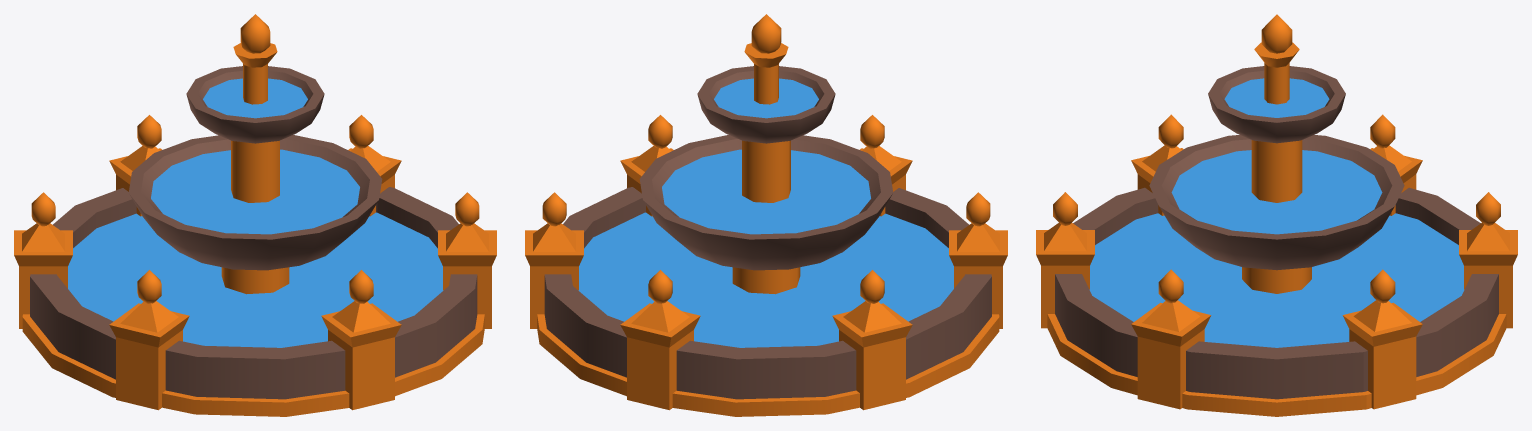
File: fountain_001.fbx
3 views of the same model, side by side, from view 1: azimuth 30°, elevation 25°; view 2: azimuth 150°, elevation 25°; view 3: azimuth 270°, elevation 25° (orthographic).
Visible parts, largest first — view 1: fountain_001; view 2: fountain_001; view 3: fountain_001.
Boxes of the visible parts, bbox=[...] form: fountain_001: bbox=[14, 14, 496, 416]; fountain_001: bbox=[525, 14, 1007, 416]; fountain_001: bbox=[1036, 14, 1517, 416].
Size of the model in its own units: 704 by 507 by 724.
